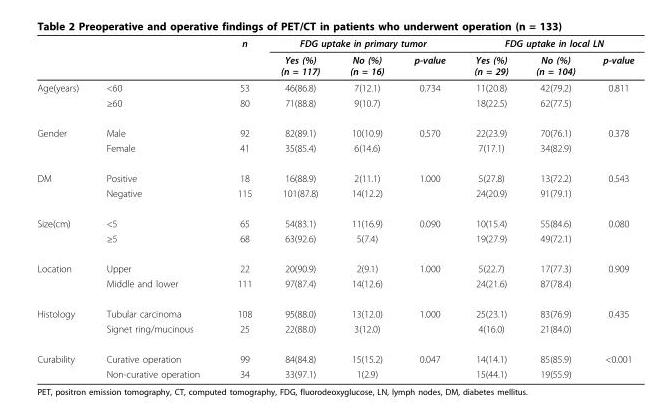table: (36, 37, 633, 379)
table column: (91, 37, 217, 379), (265, 37, 334, 379), (521, 37, 588, 379), (334, 37, 398, 379), (459, 37, 521, 379), (398, 37, 459, 379), (36, 37, 91, 379), (217, 37, 265, 379), (588, 37, 633, 379)
table column header: (36, 37, 633, 79)
table row: (36, 51, 633, 79), (36, 117, 633, 140), (36, 162, 633, 185), (36, 207, 633, 230), (36, 230, 633, 253), (36, 275, 633, 298), (36, 320, 633, 343), (36, 343, 633, 366), (36, 95, 633, 117), (36, 140, 633, 162), (36, 185, 633, 207), (36, 253, 633, 275), (36, 298, 633, 320), (36, 79, 633, 95), (36, 37, 633, 51), (36, 366, 633, 379)
table spanning cell: (265, 37, 459, 51), (36, 207, 91, 253), (36, 117, 91, 162), (36, 162, 91, 207), (36, 253, 91, 298), (36, 298, 91, 343), (459, 37, 633, 51), (36, 79, 91, 117), (217, 37, 265, 79), (36, 343, 91, 379)
